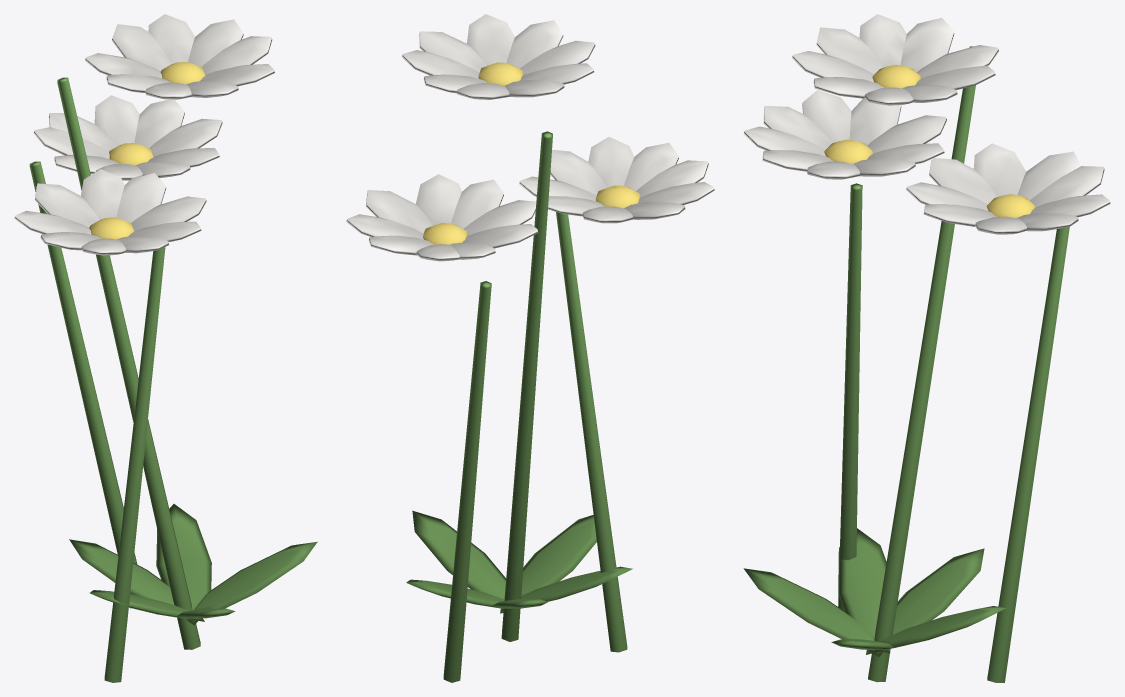
The model's file is herb_mirumilka.glb.
The picture shows the model from 3 angles, left to right: view 1: azimuth 30°, elevation 25°; view 2: azimuth 150°, elevation 25°; view 3: azimuth 270°, elevation 25°; orthographic projection. The views are drawn at different scales.
Parts seen in each view (by area): view 1: herb_mirumilka; view 2: herb_mirumilka; view 3: herb_mirumilka.
Boxes of the visible parts, x1,y1,x2,y2 form: herb_mirumilka: (14,14,317,682); herb_mirumilka: (346,14,714,682); herb_mirumilka: (743,14,1110,682).
Bounding box in the file's own units: 0.4114 × 0.8042 × 0.4289.
